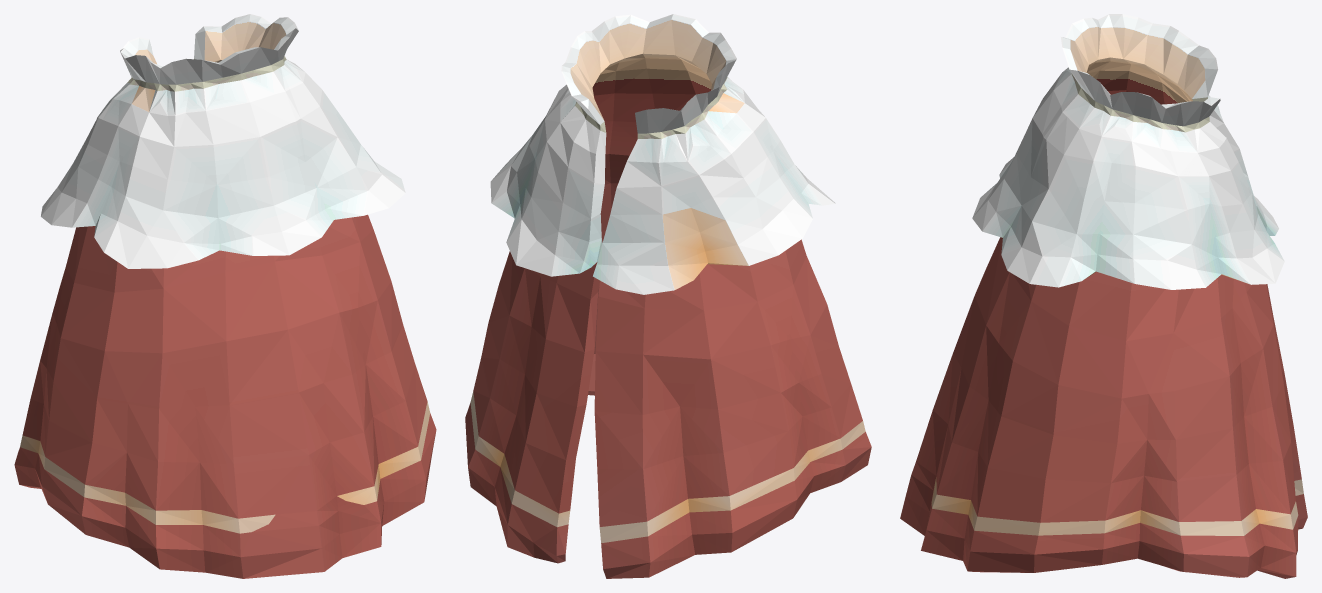
File: CharSkyKid_Wing_AP24Bell.glb
3 renders of one model, left to right at view 1: azimuth 30°, elevation 25°; view 2: azimuth 150°, elevation 25°; view 3: azimuth 270°, elevation 25°, orthographic. The views are drawn at different scales.
Parts seen in each view (by area): view 1: CharSkyKid_Wing_AP24Bell; view 2: CharSkyKid_Wing_AP24Bell; view 3: CharSkyKid_Wing_AP24Bell.
Boxes of the visible parts, box(x1,y1,x2,y2) form: CharSkyKid_Wing_AP24Bell: box(14, 14, 436, 578); CharSkyKid_Wing_AP24Bell: box(465, 14, 871, 578); CharSkyKid_Wing_AP24Bell: box(900, 14, 1307, 578).
Size of the model in its own units: 6.29 by 8.02 by 5.84.
1 material, 1 textured.
